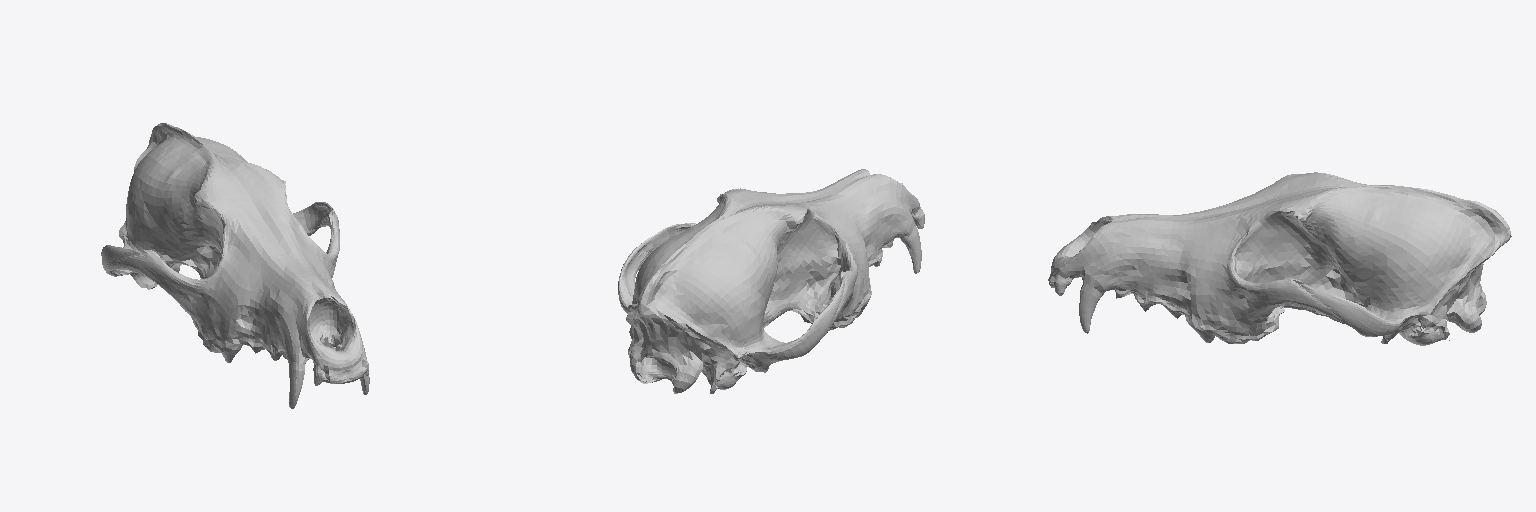
File: Skull_unwrapped_with_smoothing_20k_mm.obj
The picture shows the model from 3 angles: view 1: azimuth 30°, elevation 25°; view 2: azimuth 150°, elevation 25°; view 3: azimuth 270°, elevation 25°; orthographic projection.
Parts seen in each view (by area): view 1: ZBrushPolyMesh3D001; view 2: ZBrushPolyMesh3D001; view 3: ZBrushPolyMesh3D001.
Part boxes in pixels (x1,y1,x2,y2): ZBrushPolyMesh3D001: (101,123,369,408); ZBrushPolyMesh3D001: (618,169,924,393); ZBrushPolyMesh3D001: (1048,172,1511,345).
Size of the model in its own units: 10.26 by 6.72 by 19.62.